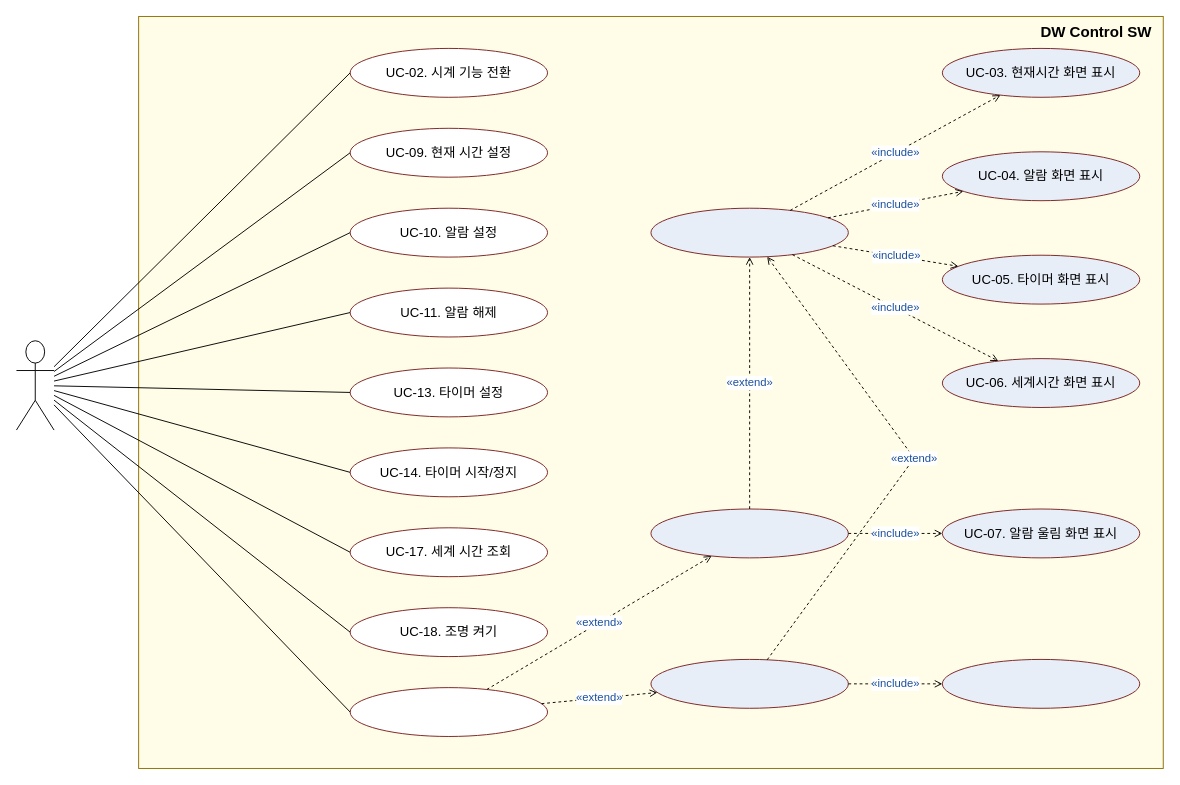
Some shapes in this 1180 by 785 pixel diagram are drawn without their labels. The shapes that lost their labels are listed below. From the top down, each one's centre as x and y in pixels, then its label:
At point 749,232: "UC-01. 시간 계수".
At point 35,385: "사용자".
At point 749,533: "UC-12. 알람 울리기".
At point 749,683: "UC-15. 타이머 종료 알림".
At point 1040,683: "UC-08. 타이머 종료 화면 표시".
At point 448,711: "UC-16. 경보음 끄기".
